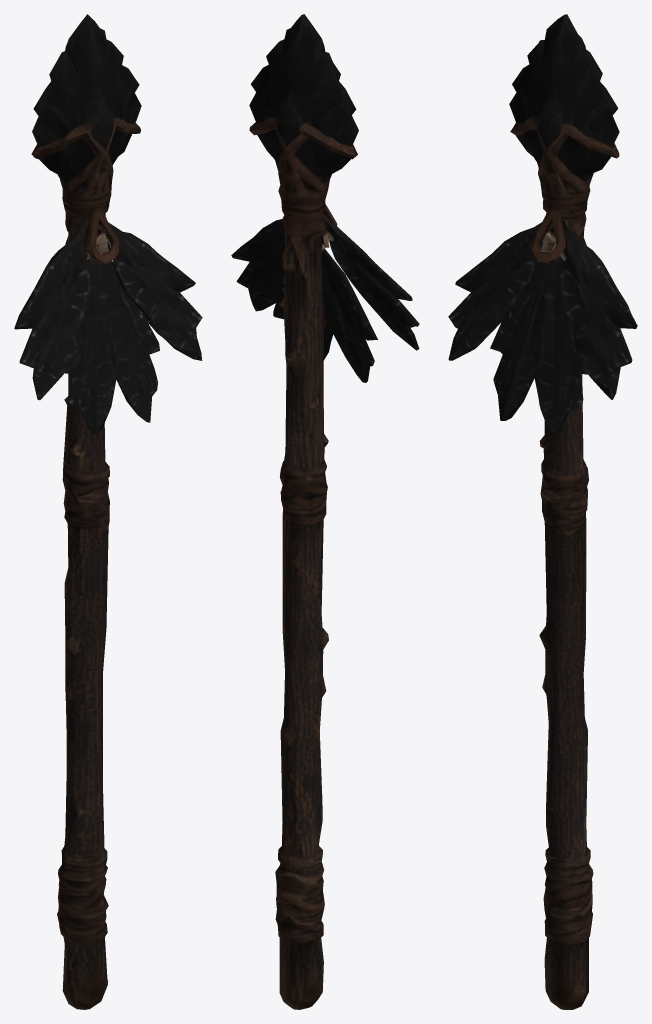
3 renders of one model, left to right at view 1: azimuth 30°, elevation 25°; view 2: azimuth 150°, elevation 25°; view 3: azimuth 330°, elevation 25°, orthographic.
Visible parts, largest first — view 1: crow-soldier-spear; view 2: crow-soldier-spear; view 3: crow-soldier-spear.
Boxes of the visible parts, x1=… form: crow-soldier-spear: x1=14, y1=14, x2=202, y2=1009; crow-soldier-spear: x1=231, y1=14, x2=419, y2=1009; crow-soldier-spear: x1=448, y1=14, x2=637, y2=1009.
Size of the model in its own units: 0.4115 by 2.15 by 0.214.
Materials: 1 (1 with a texture image).
